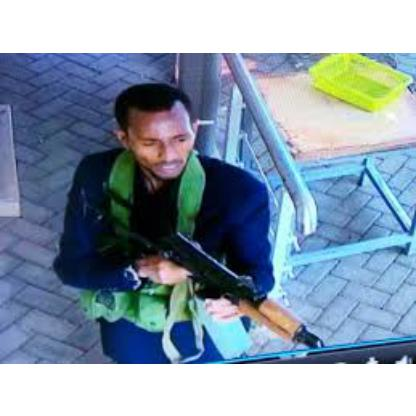gun: (91, 207, 332, 354)
